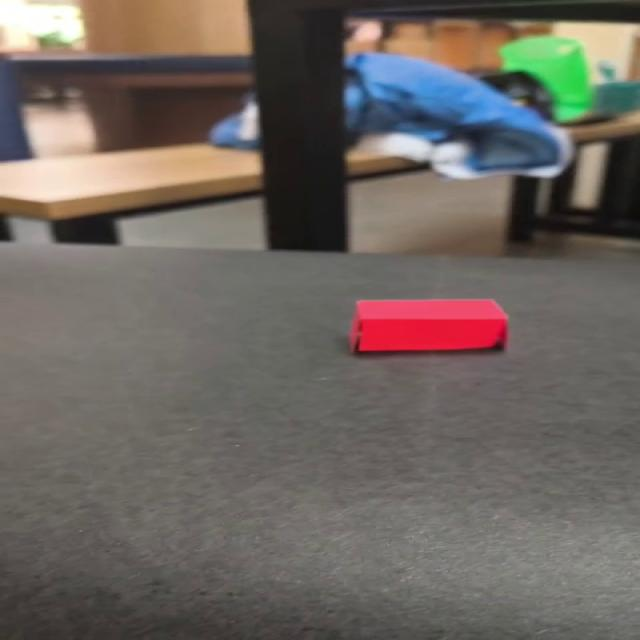red block: (348, 298, 508, 353)
